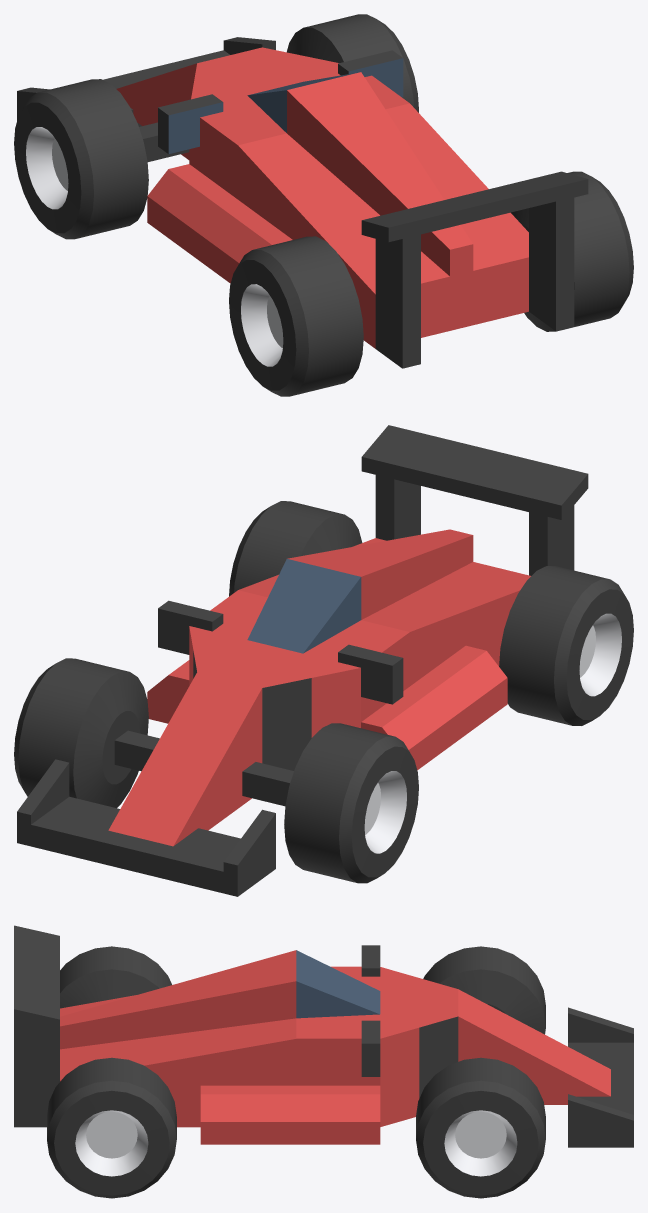
The model's file is raceCarRed.obj.
The picture shows the model from 3 angles, top to bottom: view 1: azimuth 30°, elevation 25°; view 2: azimuth 150°, elevation 25°; view 3: azimuth 270°, elevation 25°; orthographic projection. The views are drawn at different scales.
Parts seen in each view (by area): view 1: body, wheelBackLeft, wheelFrontLeft, wheelBackRight, wheelFrontRight; view 2: body, wheelFrontLeft, wheelBackLeft, wheelFrontRight, wheelBackRight; view 3: body, wheelBackRight, wheelFrontRight, wheelFrontLeft, wheelBackLeft.
Part boxes in pixels (x1,y1,x2,y2): body: (17,37,588,368); wheelBackLeft: (229,236,363,396); wheelFrontLeft: (14,79,148,239); wheelBackRight: (511,171,633,331); wheelFrontRight: (287,14,418,112); body: (17,425,588,896); wheelFrontLeft: (284,723,418,883); wheelBackLeft: (499,566,633,725); wheelFrontRight: (14,658,148,808); wheelBackRight: (229,501,362,596); body: (14,925,633,1147); wheelBackRight: (47,1057,176,1198); wheelFrontRight: (416,1057,545,1198); wheelFrontLeft: (423,946,545,1034); wheelBackLeft: (60,946,171,1008).
Bounding box in the file's own units: 0.7288 × 0.397 × 1.35.
